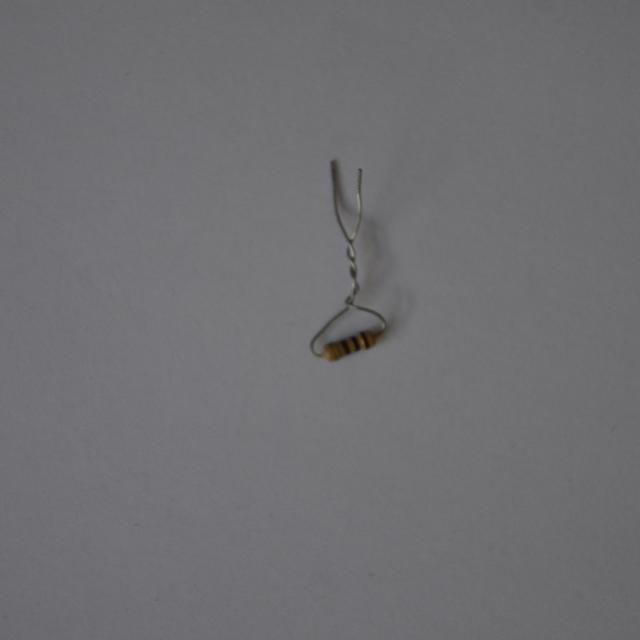capacitor: (319, 324, 385, 367)
